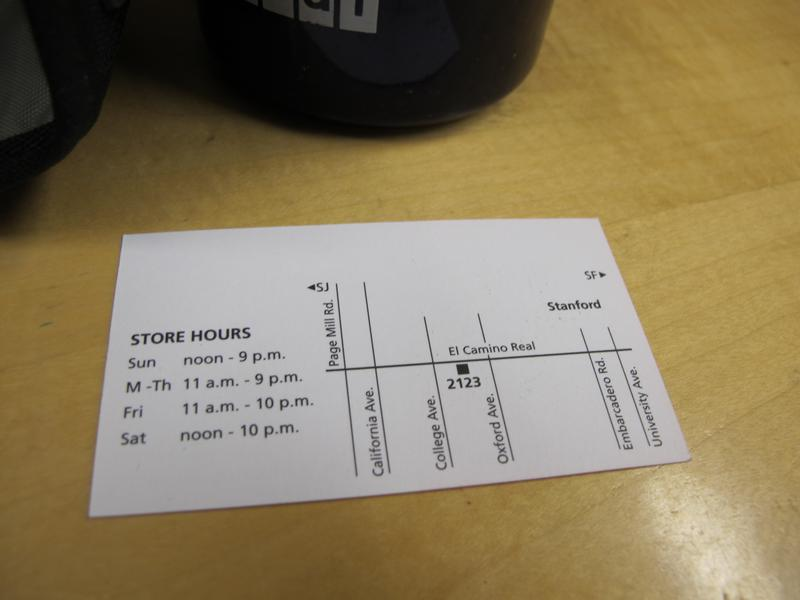card: (91, 216, 693, 517)
